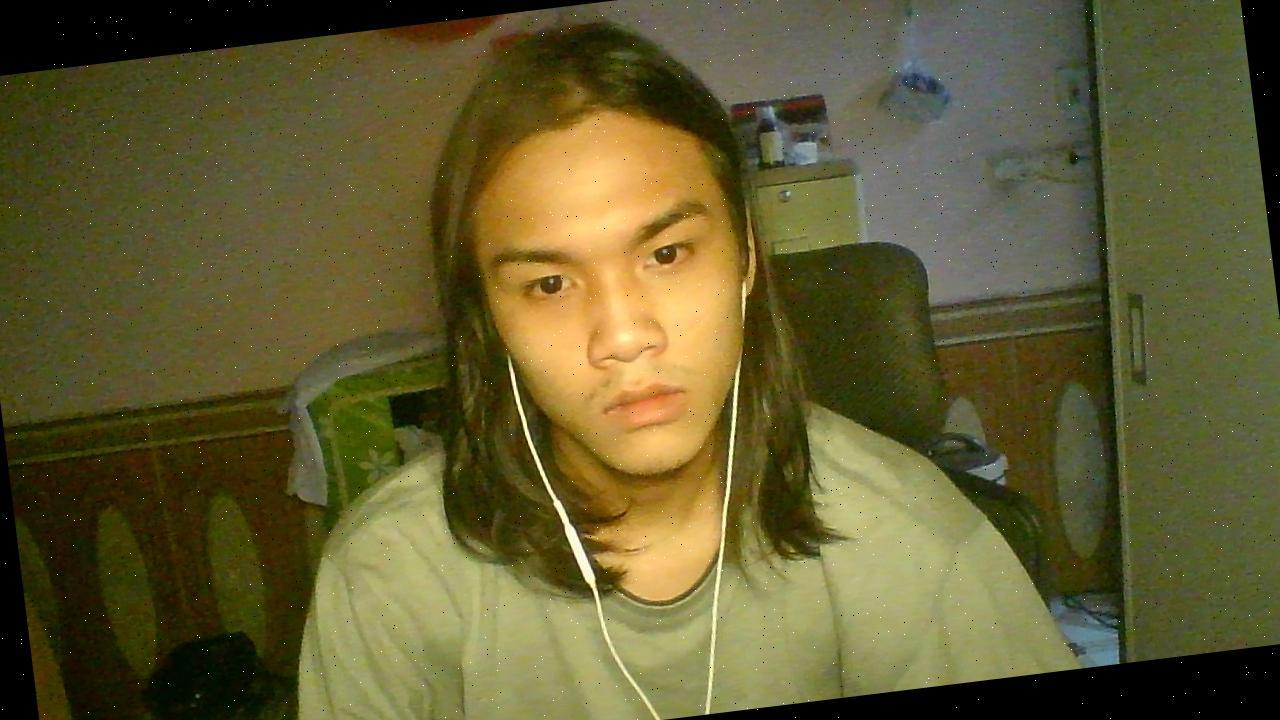Awake: (400, 53, 817, 500)
